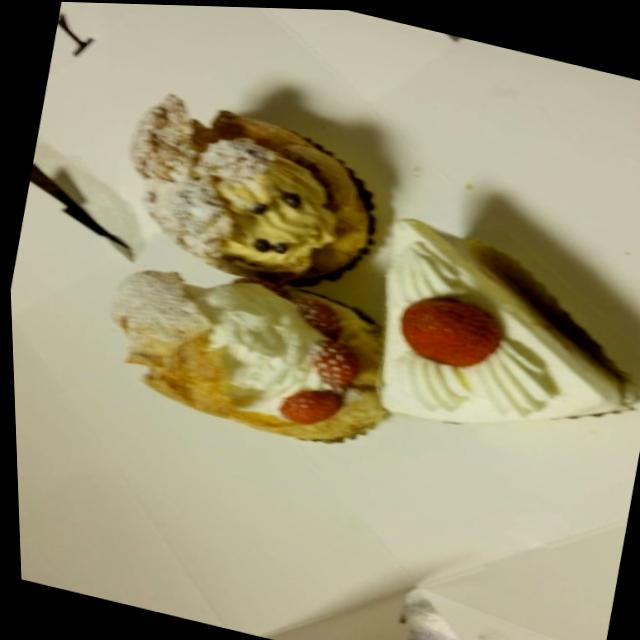蛋糕甜品: (14, 4, 640, 570)
